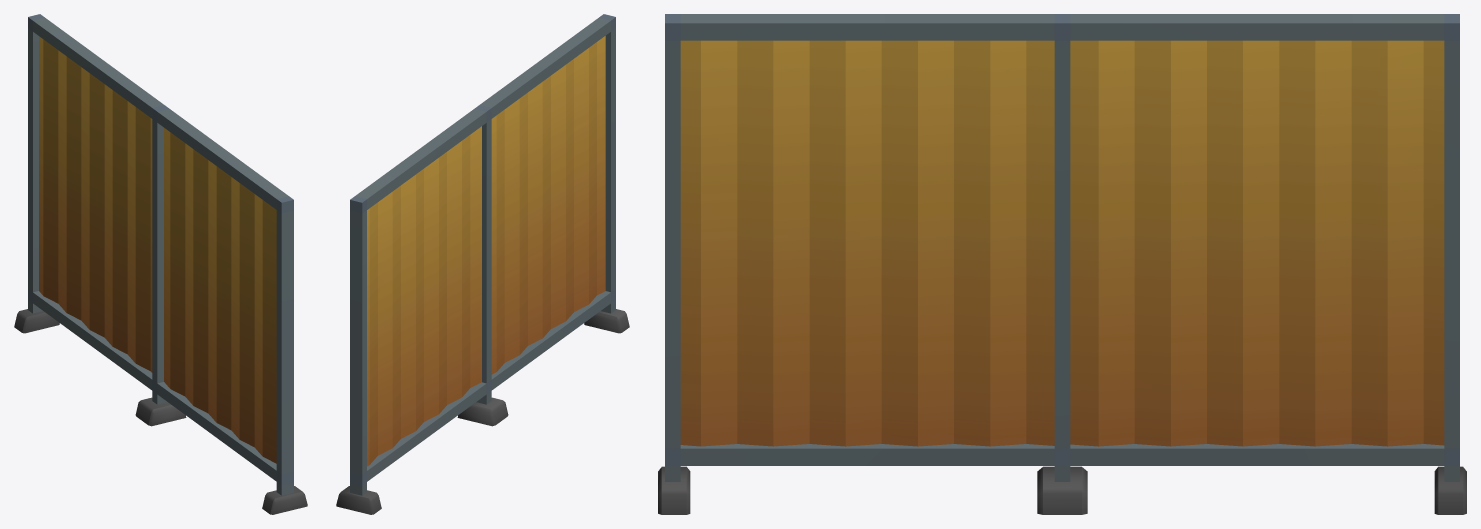
File: Barier_1_7.fbx
The picture shows the model from 3 angles, left to right: view 1: azimuth 30°, elevation 25°; view 2: azimuth 150°, elevation 25°; view 3: azimuth 270°, elevation 25°; orthographic projection. The views are drawn at different scales.
Visible parts, largest first — view 1: Barier_1_7; view 2: Barier_1_7; view 3: Barier_1_7.
Boxes of the visible parts, bbox=[...] form: Barier_1_7: bbox=[14, 14, 307, 514]; Barier_1_7: bbox=[336, 14, 629, 514]; Barier_1_7: bbox=[658, 14, 1466, 514].
Bounding box in the file's own units: 34.35 × 268 × 407.
